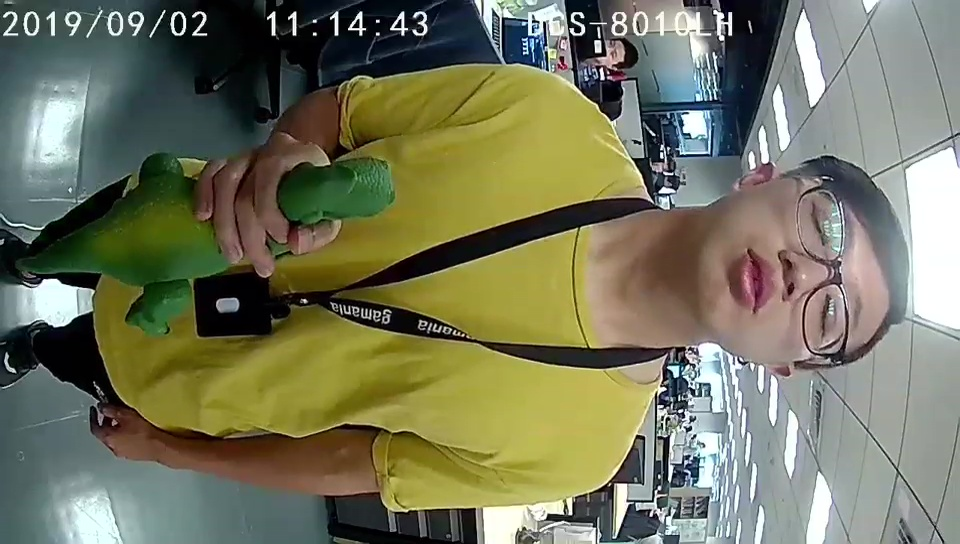rex: (125, 155, 398, 337)
